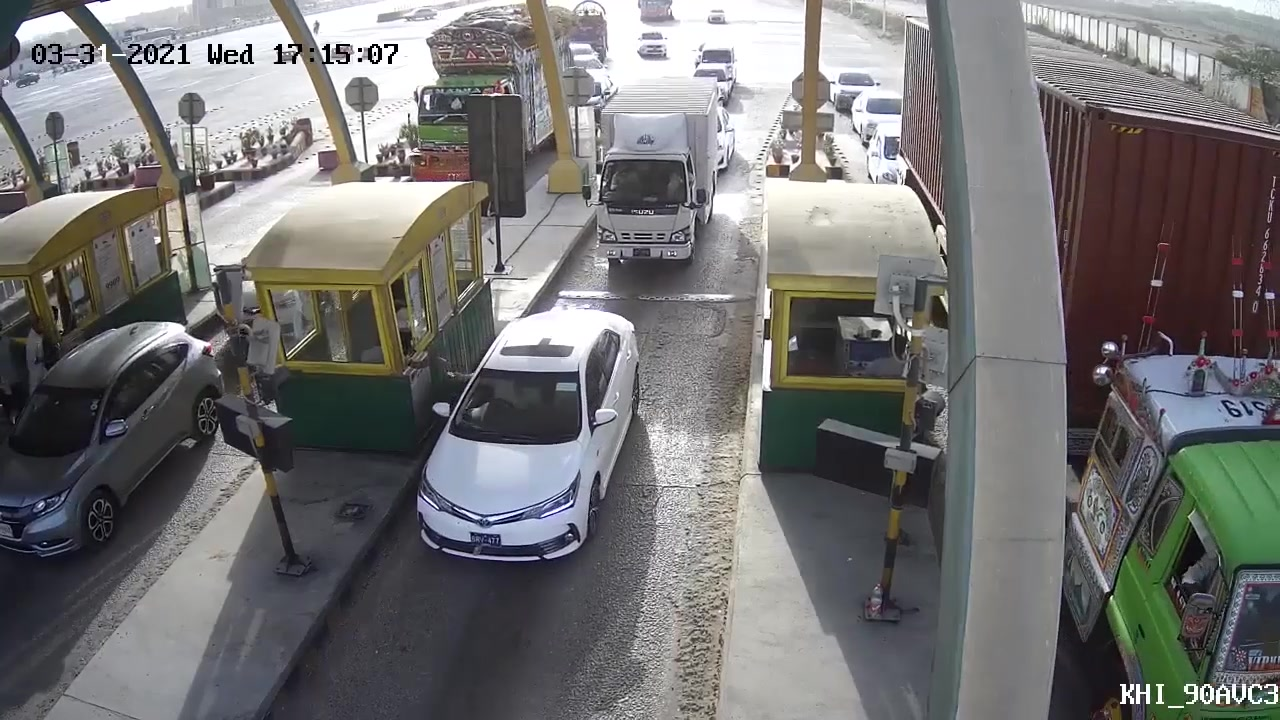F1: (405, 303, 648, 566)
F3: (592, 82, 721, 266)
